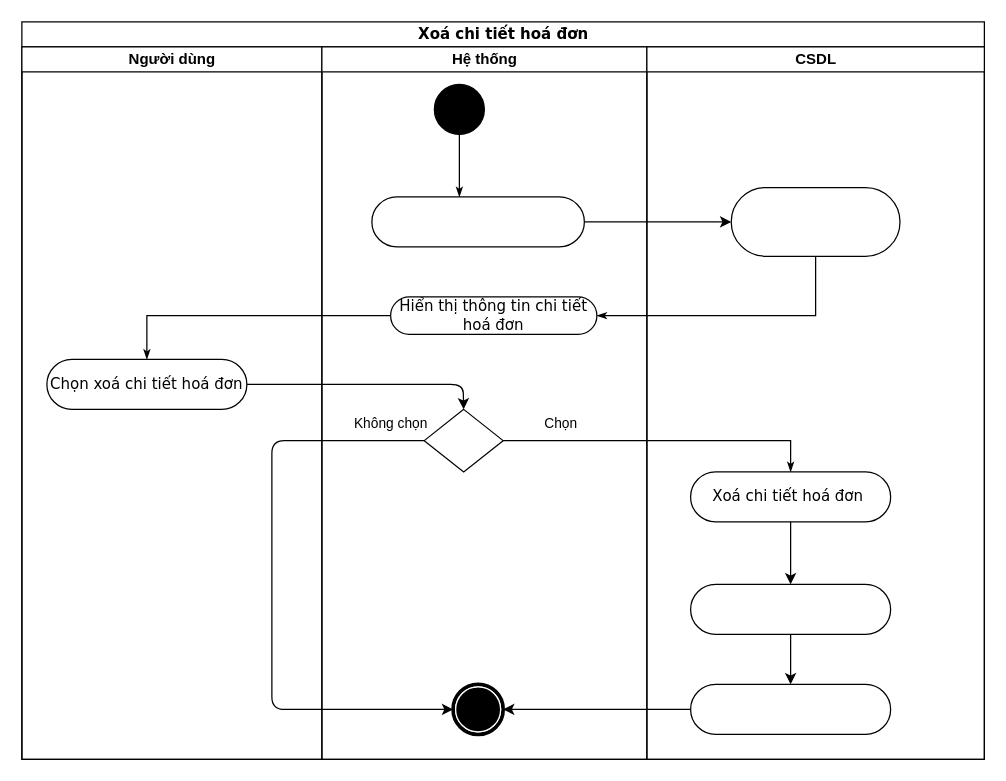
This 1006x781 diagram has some shape labels left out. The centre of each missing label's shape, as x and y in pixels:
"Cập nhật lại hoá đơn" belongs at (x=790, y=608).
"Cập nhật lại số lượng sản phẩm" belongs at (x=790, y=708).
"Lấy thông tin chi tiết hoá đơn" belongs at (x=477, y=221).
"Truy xuất thông tin chi tiết hoá đơn" belongs at (x=815, y=221).
